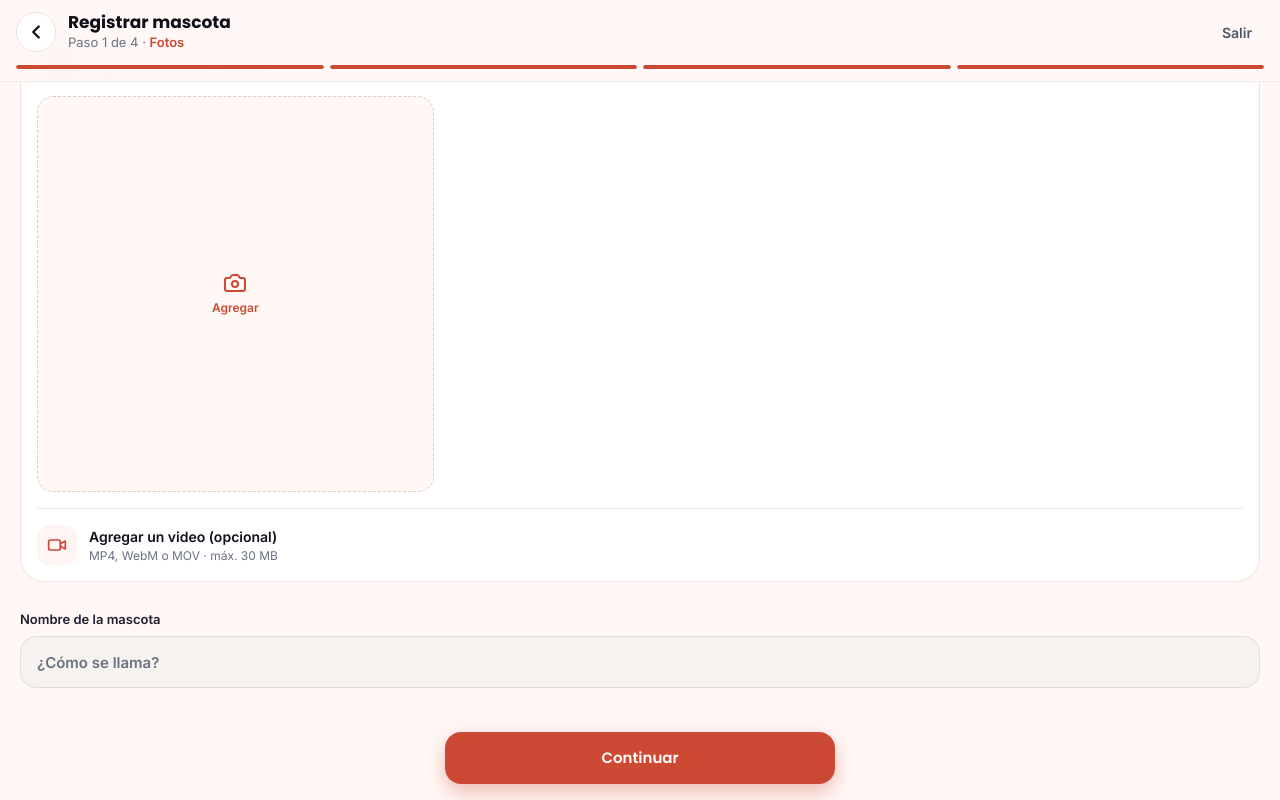
Test: Sprint 2 — MascotaForm (DoD) › No avanza al paso 3 si falta la especie
(page scrolled)
Type "Luna" into the field with placeholder "¿Cómo se llama?" at (640, 662), box [20, 636, 1260, 688]
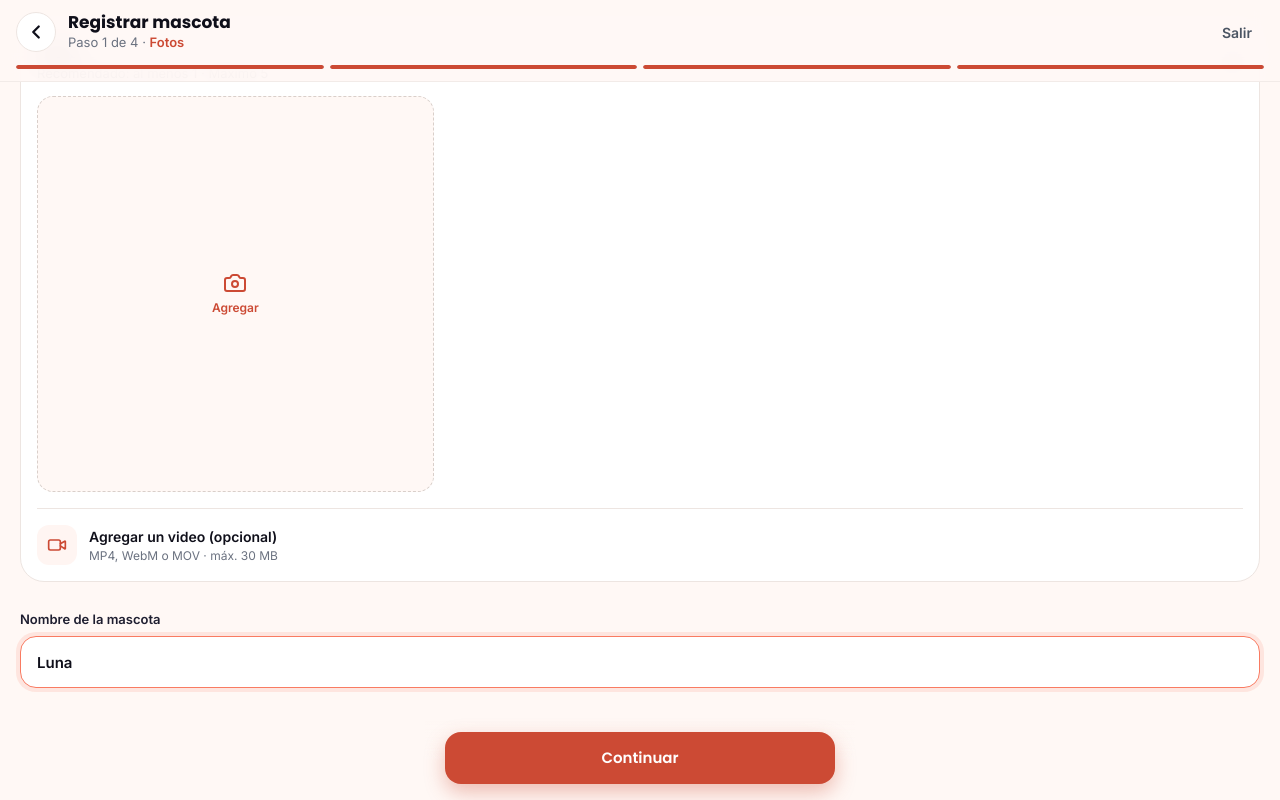
Click the button with test id "btn-siguiente" at (640, 758), box [445, 732, 835, 784]
(page scrolled)
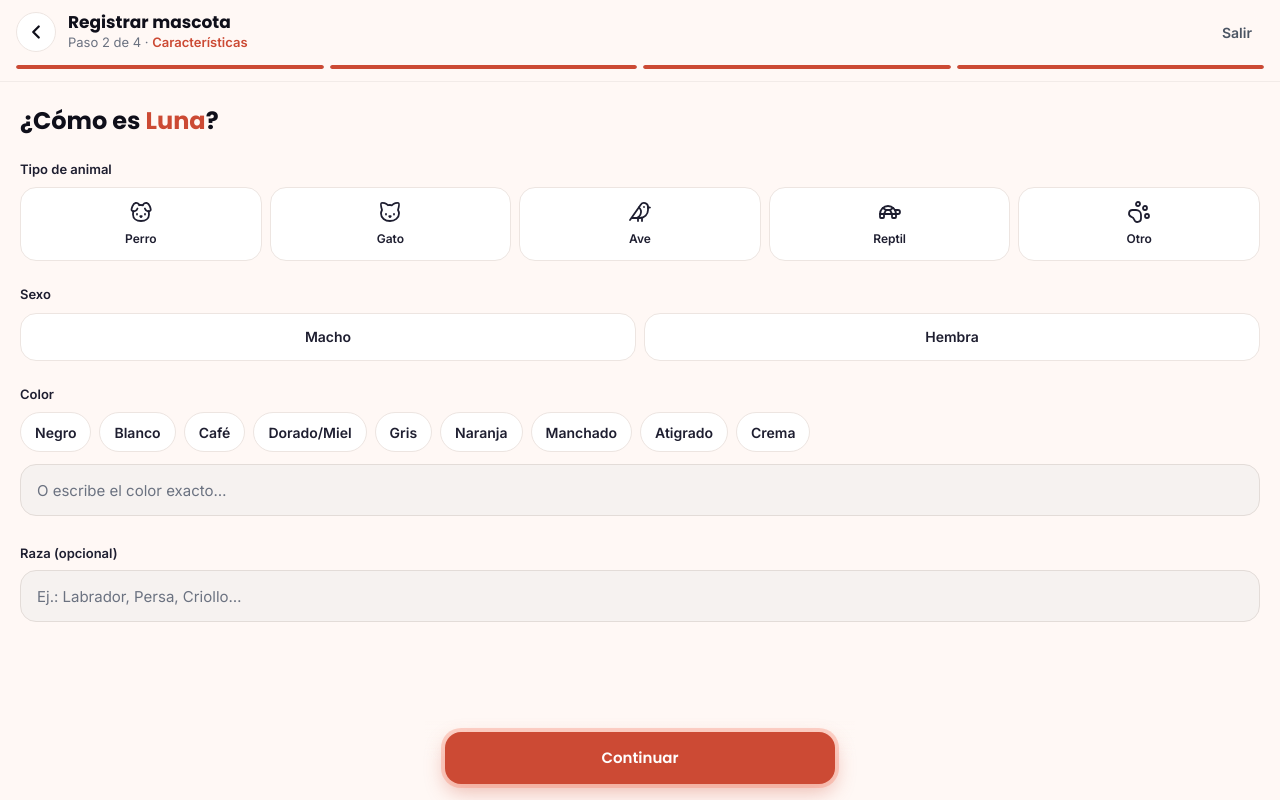
Expected: the element with test id "paso-2" is shown
# Intentar avanzar sin especie (solo poner color)
Type "Blanco" into the field with placeholder "O escribe el color exacto…" at (640, 490), box [20, 464, 1260, 516]
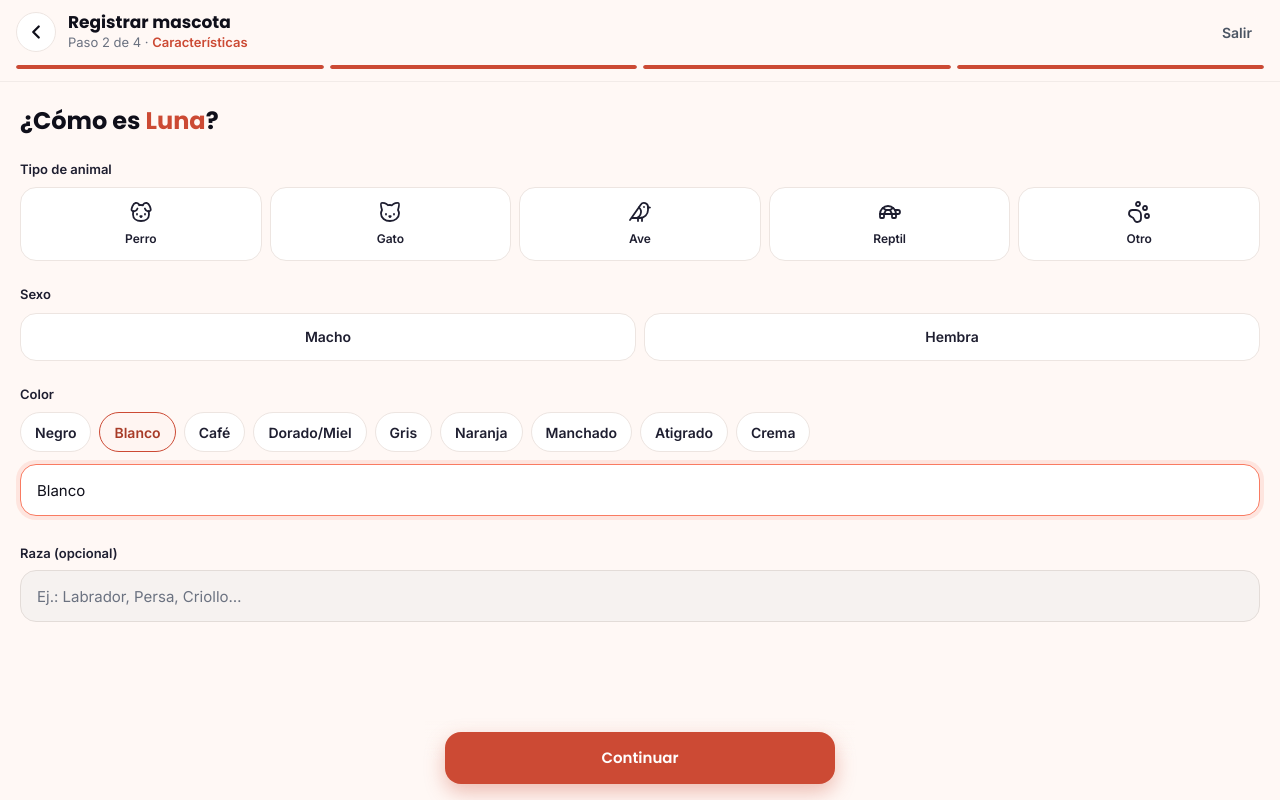
Click the button with test id "btn-siguiente" at (640, 758), box [445, 732, 835, 784]
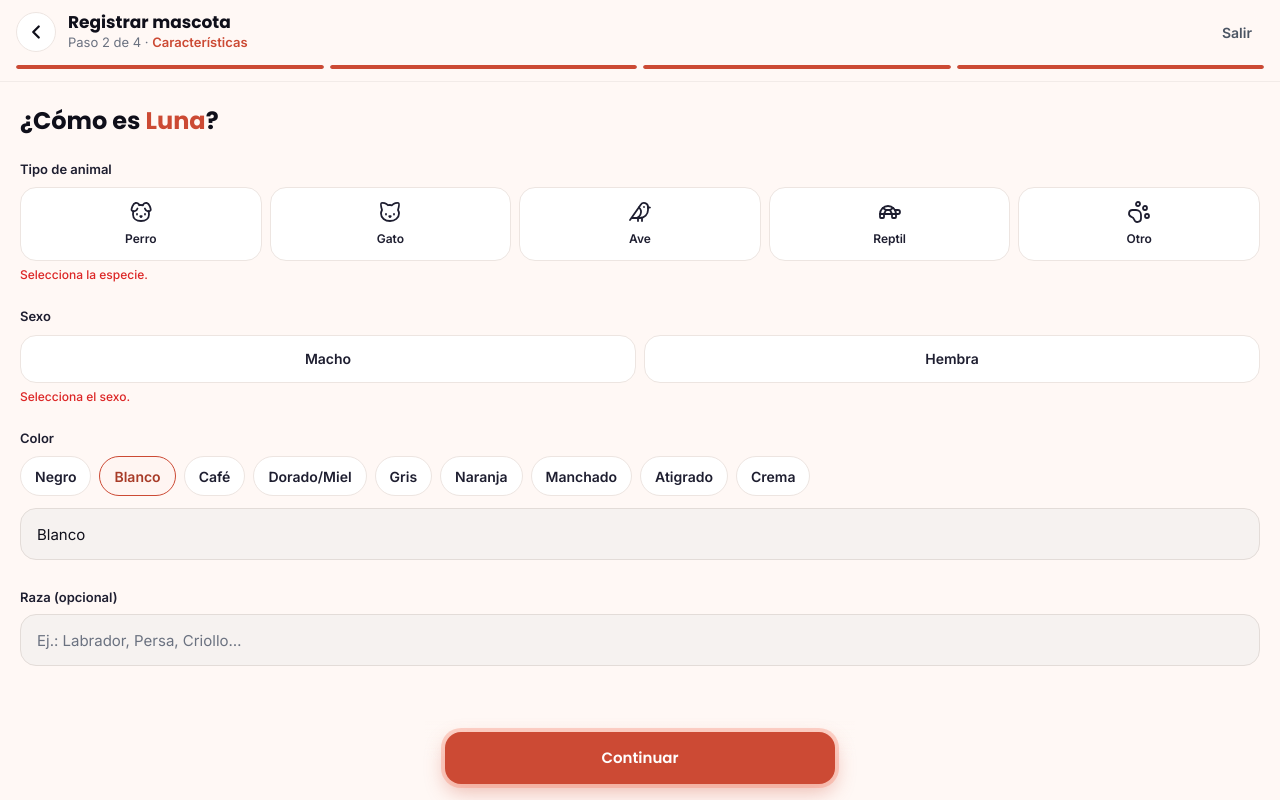
Expected: the element with test id "paso-2" is shown
Expected: the text "Selecciona la especie." is shown, [20, 267, 148, 282]
